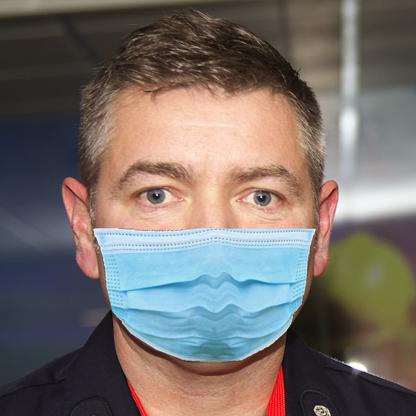mask: (90, 224, 311, 362)
